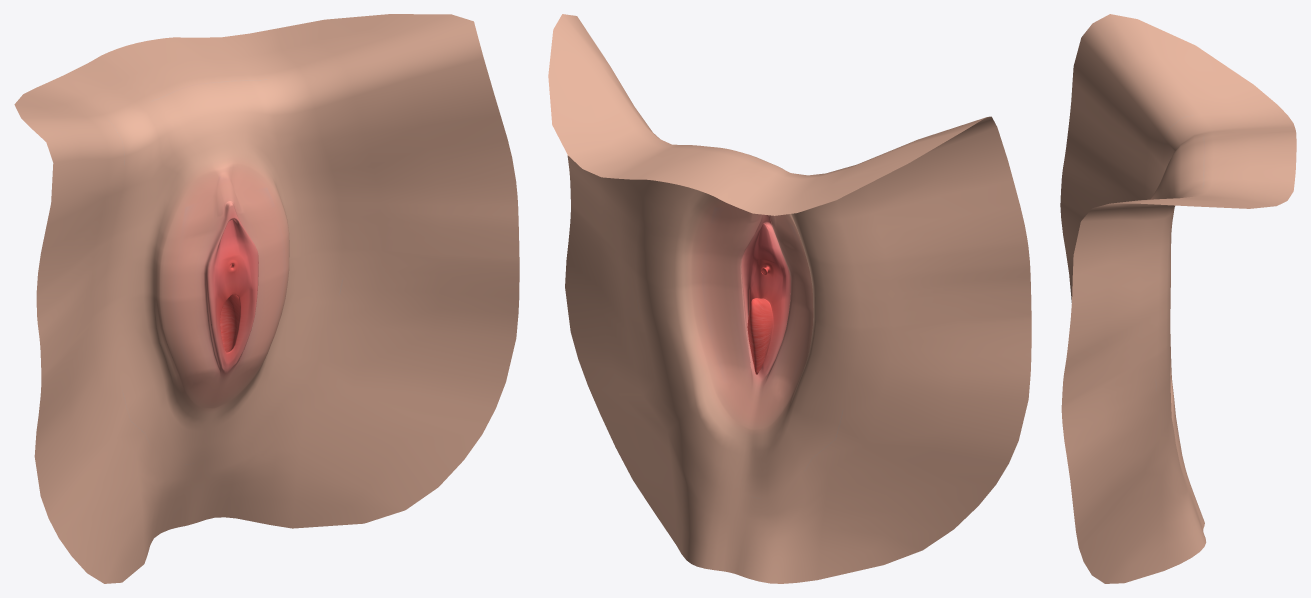
The model's file is Vagina.fbx.
3 views of the same model, side by side, from view 1: azimuth 30°, elevation 25°; view 2: azimuth 150°, elevation 25°; view 3: azimuth 270°, elevation 25° (orthographic). The views are drawn at different scales.
Visible parts, largest first — view 1: Vagina; view 2: Vagina; view 3: Vagina.
Part boxes in pixels (<box>): Vagina: <box>14,14,519,583</box>; Vagina: <box>548,14,1031,583</box>; Vagina: <box>1060,14,1296,583</box>.
Bounding box in the file's own units: 135 × 132 × 65.42.
1 material, 1 textured.
